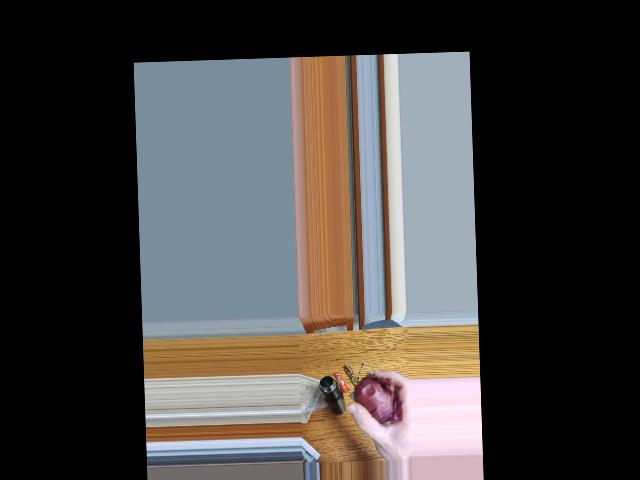onion: (355, 375, 398, 428)
